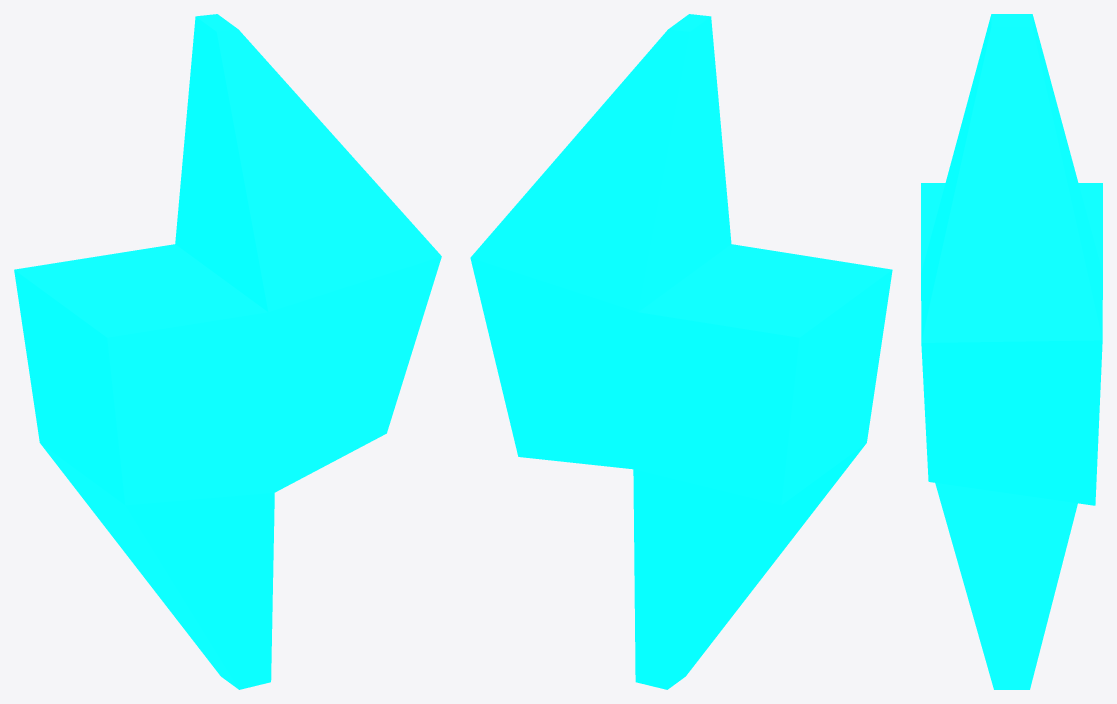
The model's file is lightning.fbx.
3 views of the same model, side by side, from view 1: azimuth 30°, elevation 25°; view 2: azimuth 150°, elevation 25°; view 3: azimuth 270°, elevation 25° (orthographic). The views are drawn at different scales.
Parts seen in each view (by area): view 1: Plane; view 2: Plane; view 3: Plane.
Boxes of the visible parts, box(x1,y1,x2,y2) form: Plane: box(14, 14, 441, 689); Plane: box(470, 14, 892, 689); Plane: box(921, 14, 1102, 689).
Size of the model in its own units: 94.32 by 179 by 45.43.
